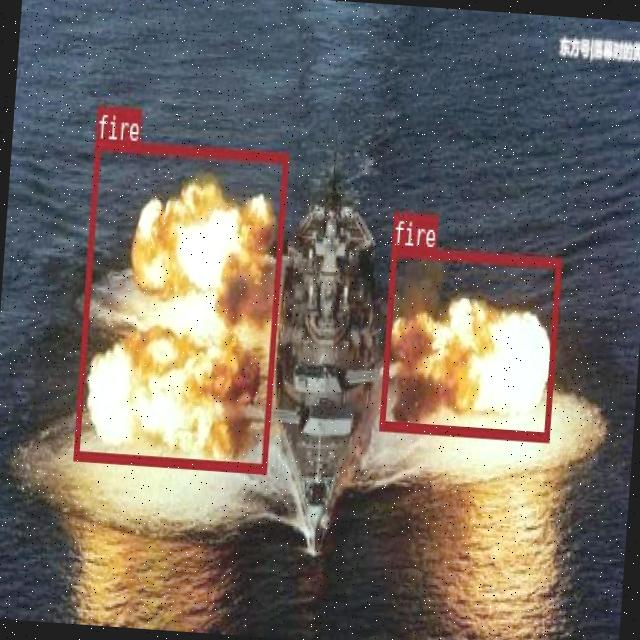fire: (72, 138, 288, 470), (379, 245, 560, 440)
